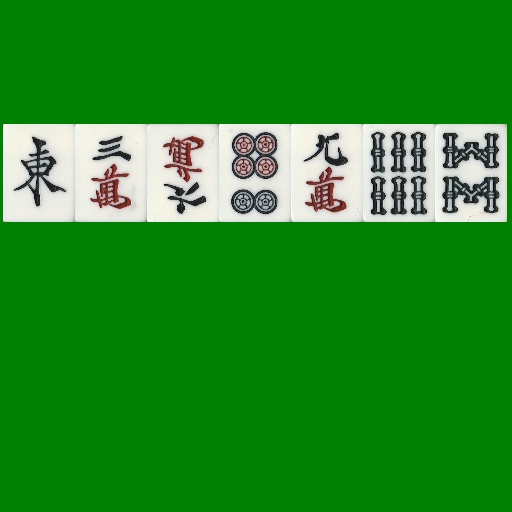3m: (75, 124, 147, 222)
6m: (147, 124, 219, 222)
6p: (219, 124, 291, 222)
6s: (363, 124, 435, 222)
8s: (435, 124, 507, 222)
9m: (291, 124, 363, 222)
east: (3, 124, 75, 222)
